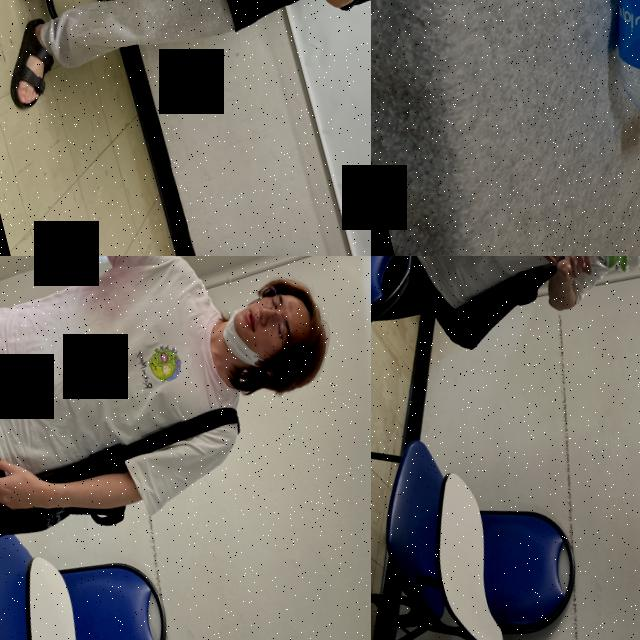bottle: (528, 0, 640, 191), (555, 256, 640, 289)
